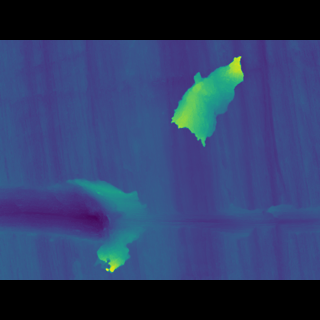Loch: (0, 170, 320, 244), (163, 87, 249, 146)
